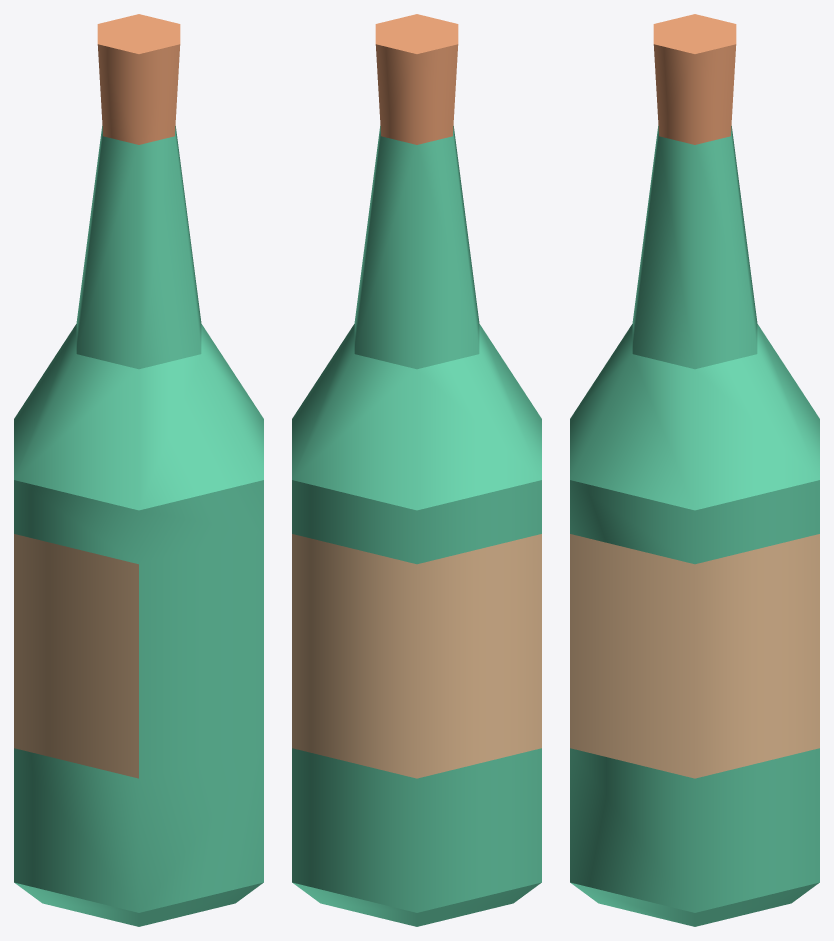
File: wineWhite.GLB
The picture shows the model from 3 angles, left to right: view 1: azimuth 30°, elevation 25°; view 2: azimuth 150°, elevation 25°; view 3: azimuth 270°, elevation 25°; orthographic projection.
Parts seen in each view (by area): view 1: wineWhite; view 2: wineWhite; view 3: wineWhite.
Boxes of the visible parts, left/top/right/bottom form: wineWhite: left=14, top=14, right=263, bottom=926; wineWhite: left=292, top=14, right=541, bottom=926; wineWhite: left=570, top=14, right=819, bottom=926.
Size of the model in its own units: 0.2028 by 0.6556 by 0.1756.
